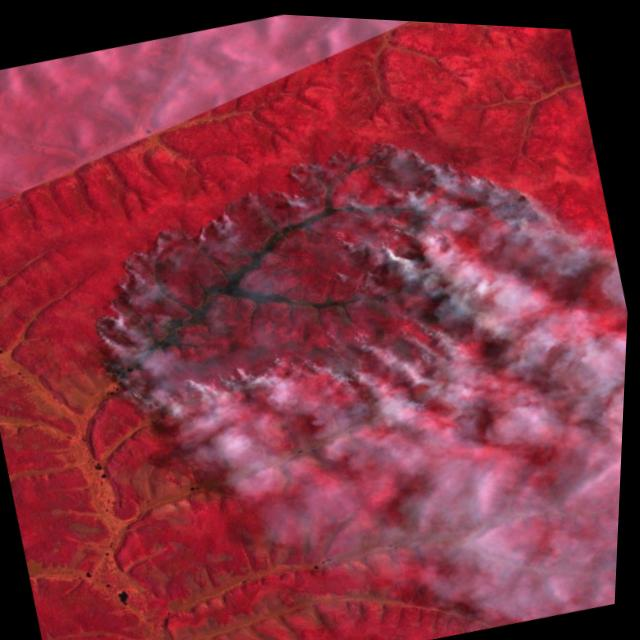fire: (39, 79, 595, 460)
